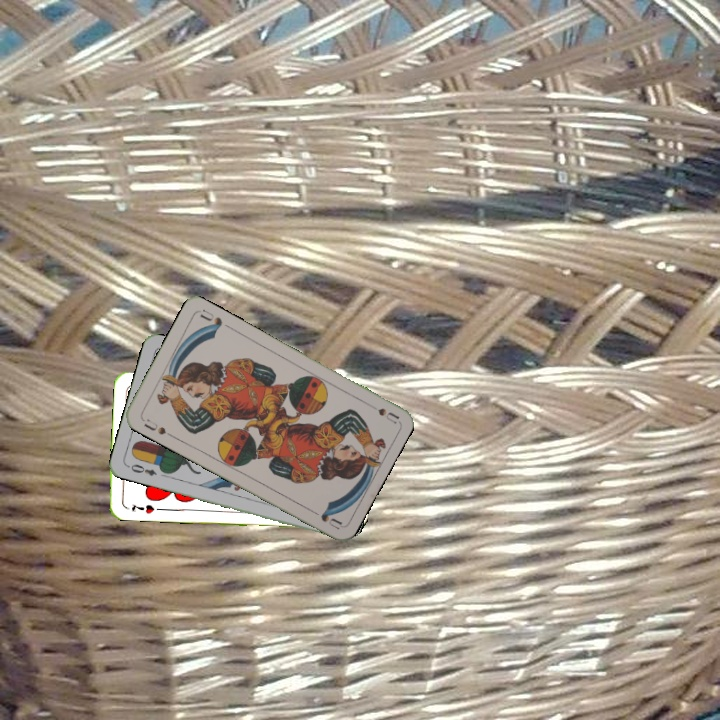EO: (123, 460, 159, 479)
H7: (128, 500, 157, 516)
SU: (362, 399, 401, 426), (140, 415, 175, 440)
